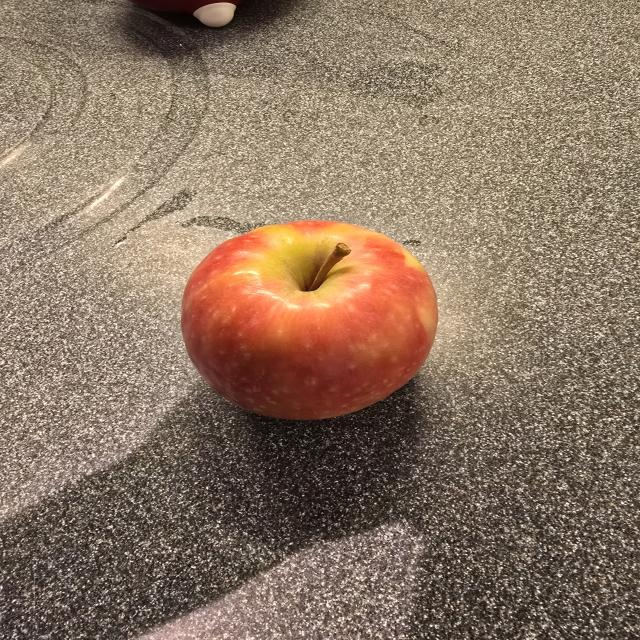Apple: (181, 221, 438, 420)
